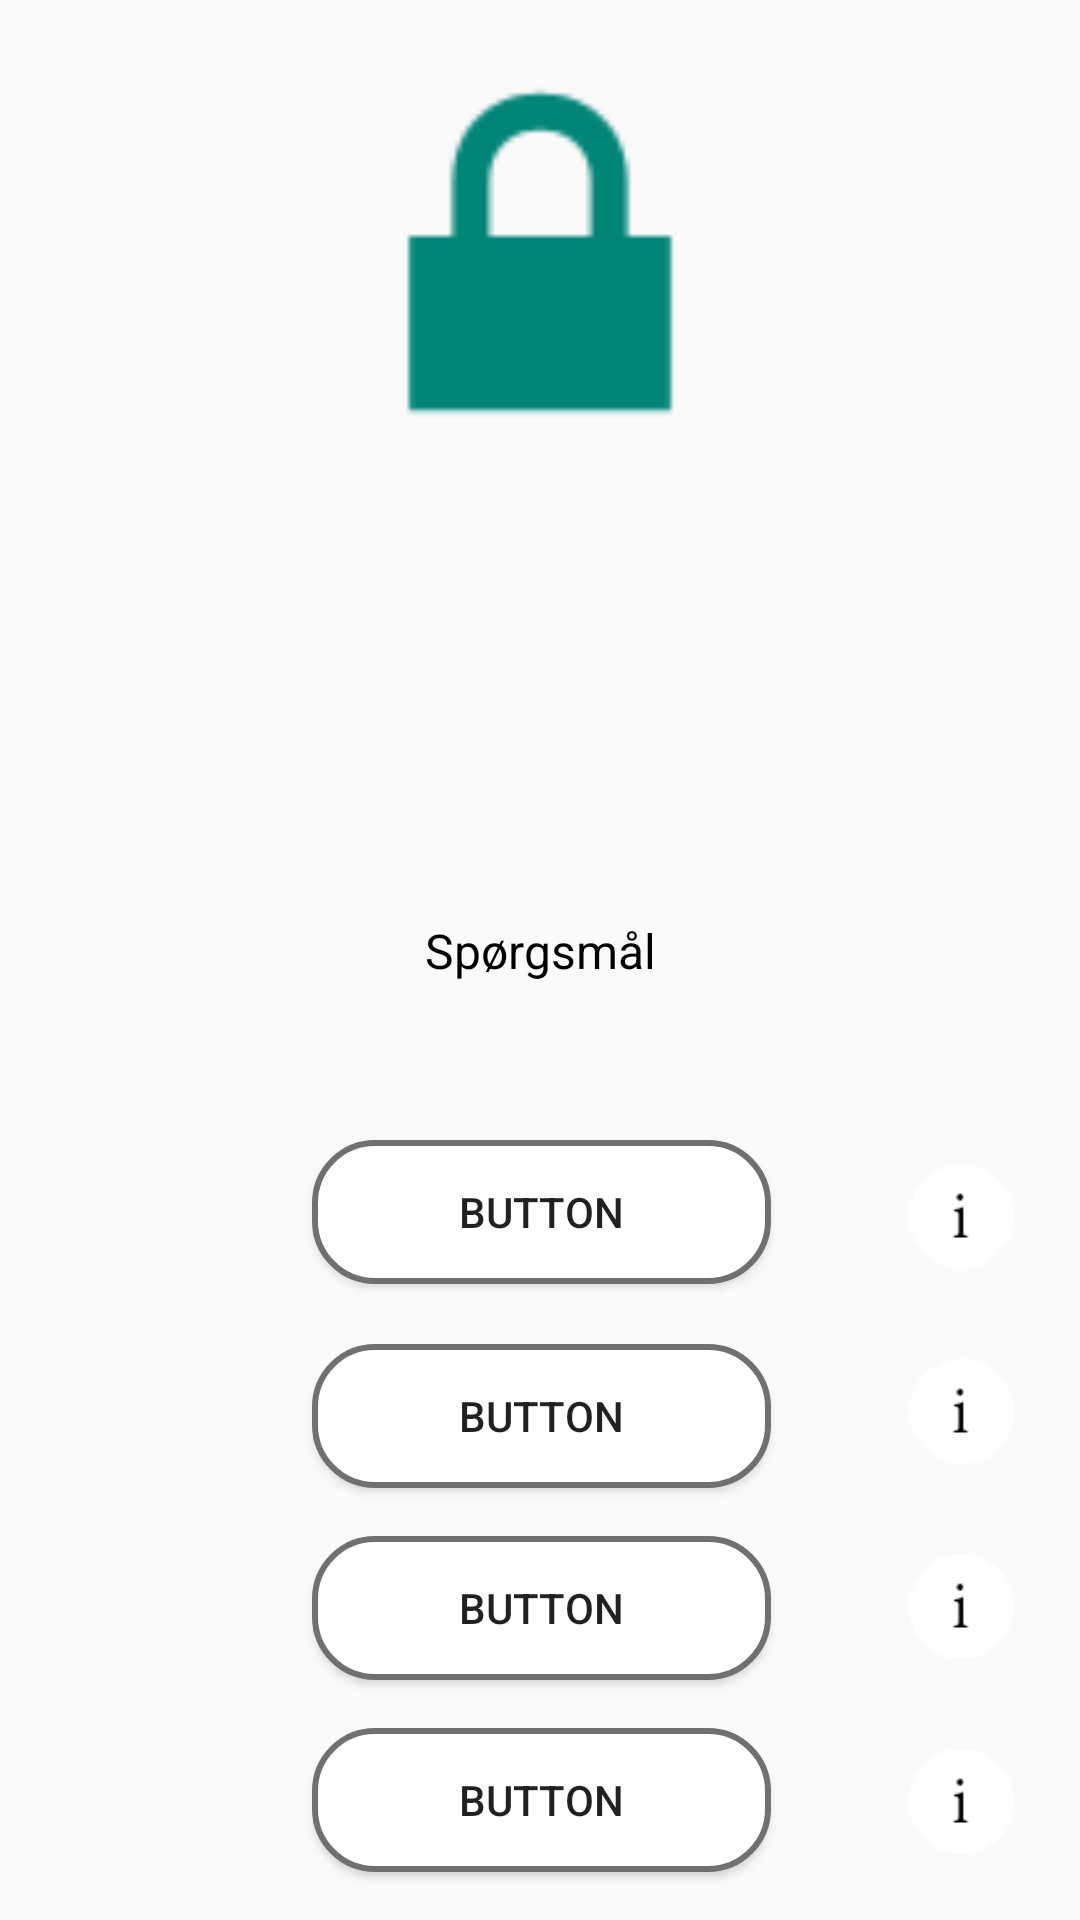

Where icons sit on this 1080px x 1920px app screen, as box(x1, y1, x2, y2):
info: box(952, 1193, 969, 1238), box(953, 1388, 969, 1433), box(952, 1583, 969, 1628), box(953, 1778, 969, 1823)
